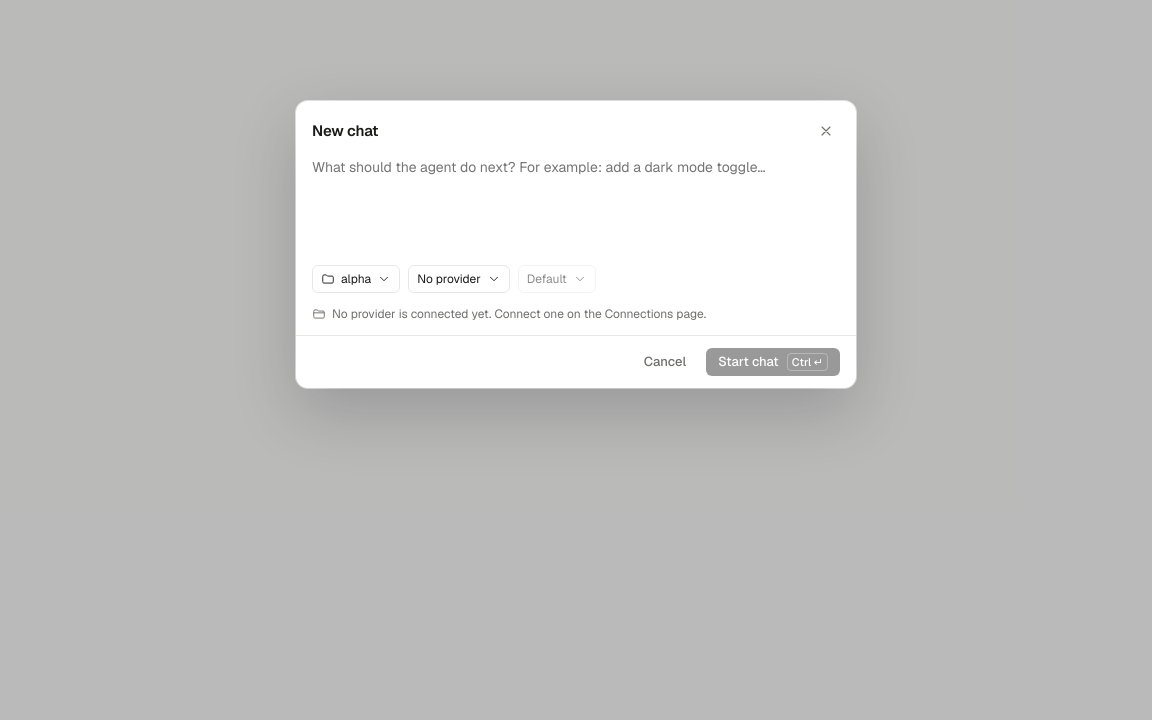
Test case: Hidden projects › New chat does not offer a hidden project
What coordinates should you click on to do the following:
click the button with aria-label "Project:"
I would click on:
 (356, 279)
Its box is 312,265 -> 400,293.
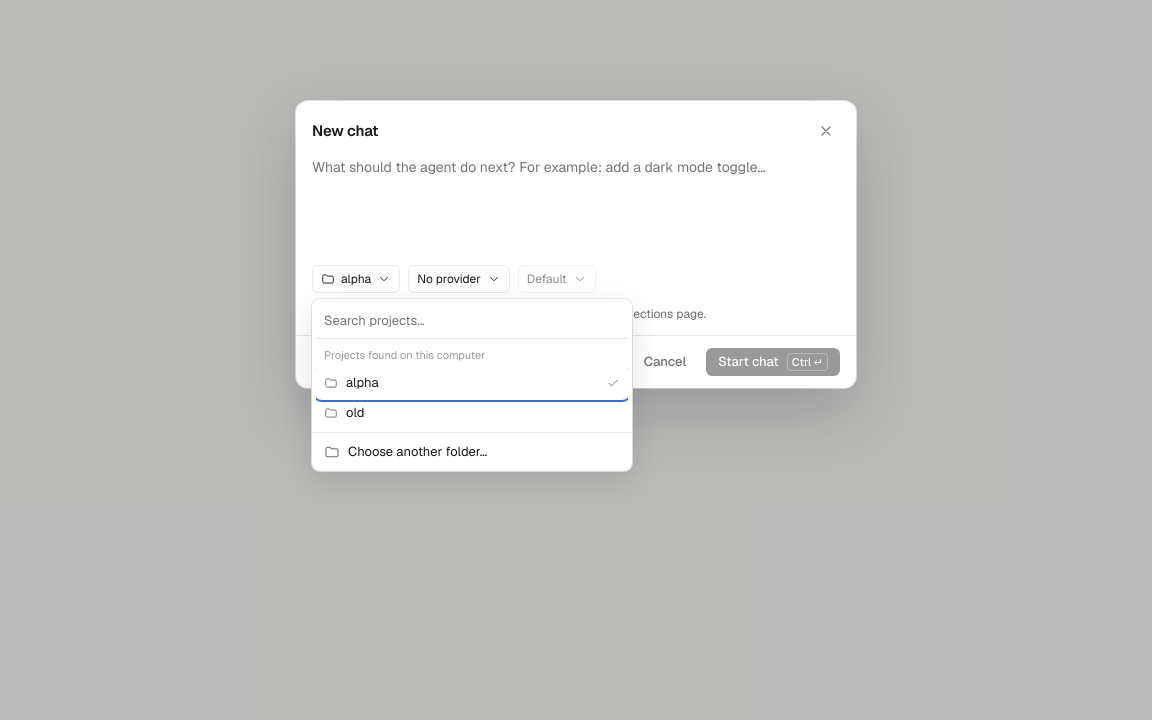
Expected: the option "alpha" is shown, 316,368 -> 628,398
